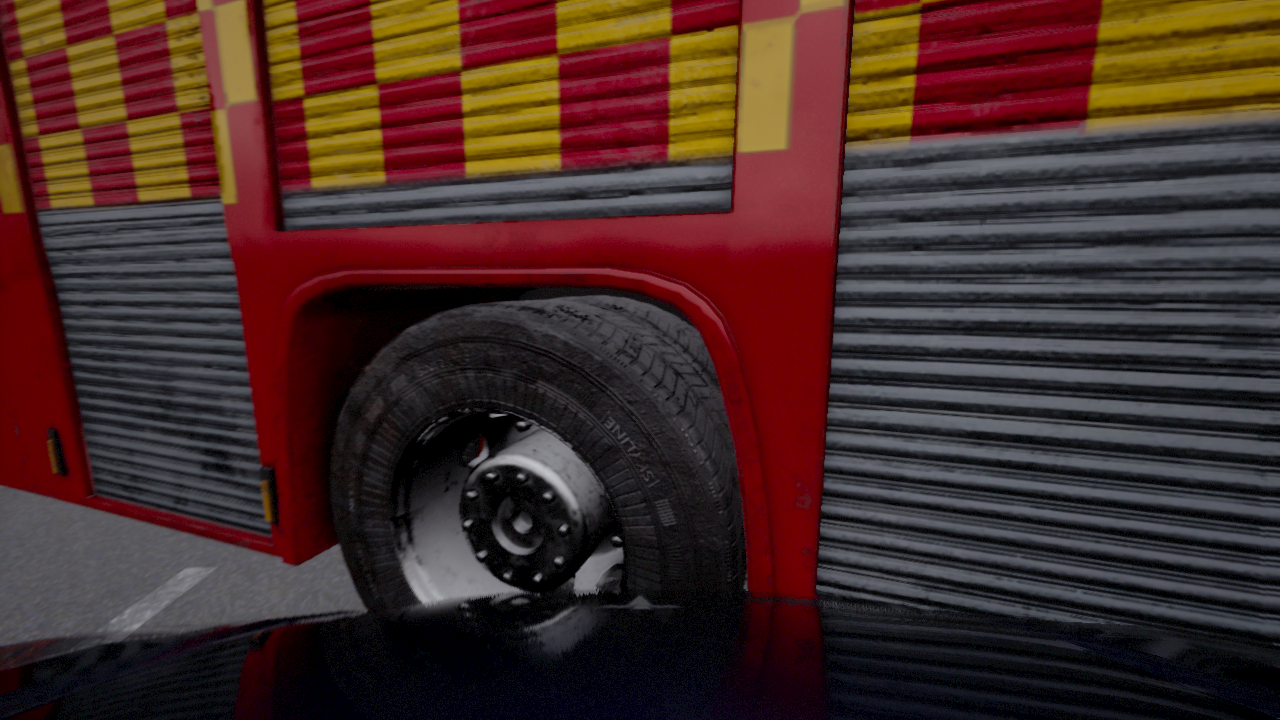cyclist: (0, 588, 1279, 719)
